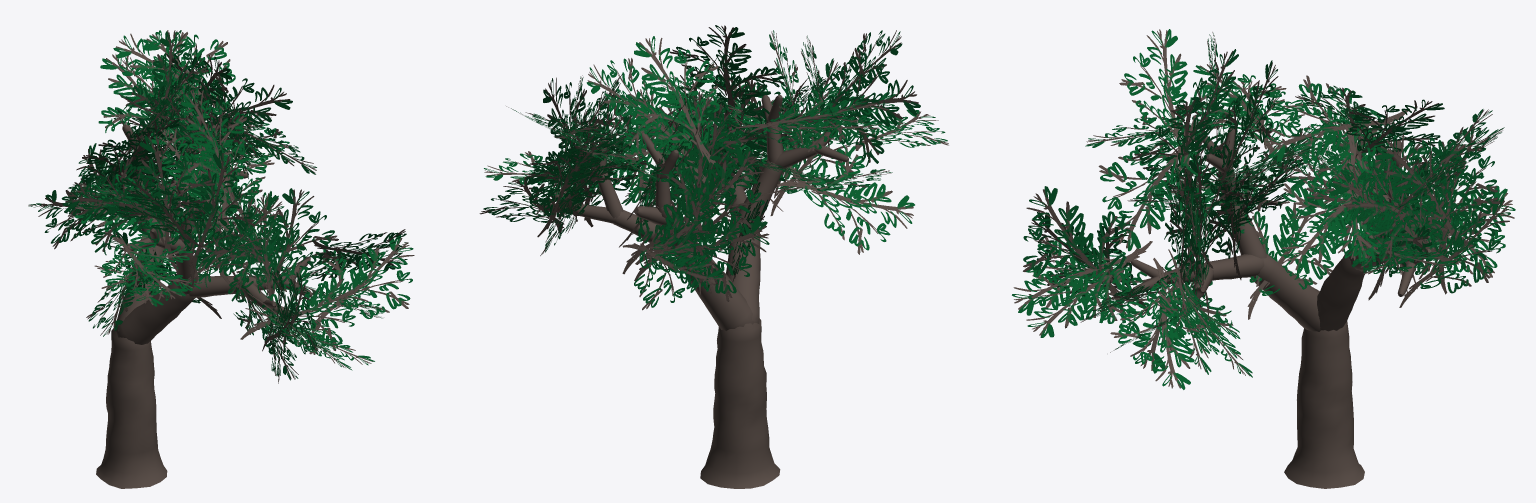
Rendered from Flora_Tree1.fbx.
The picture shows the model from 3 angles, left to right: view 1: azimuth 30°, elevation 25°; view 2: azimuth 150°, elevation 25°; view 3: azimuth 270°, elevation 25°; orthographic projection. The views are drawn at different scales.
Parts seen in each view (by area): view 1: Tree1; view 2: Tree1; view 3: Tree1.
Part boxes in pixels (left/top/right/bottom): Tree1: left=28, top=30, right=414, bottom=488; Tree1: left=479, top=25, right=948, bottom=488; Tree1: left=1012, top=29, right=1515, bottom=488.
Size of the model in its own units: 20.2 by 22.13 by 23.76.
